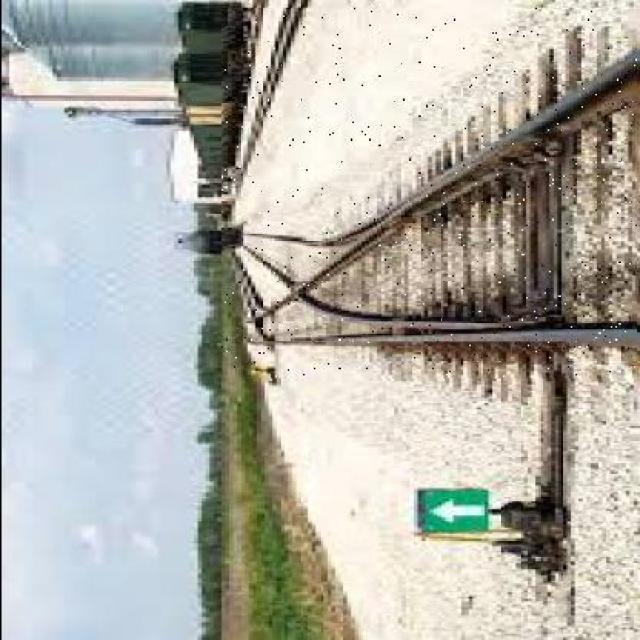rail: (221, 9, 635, 377)
